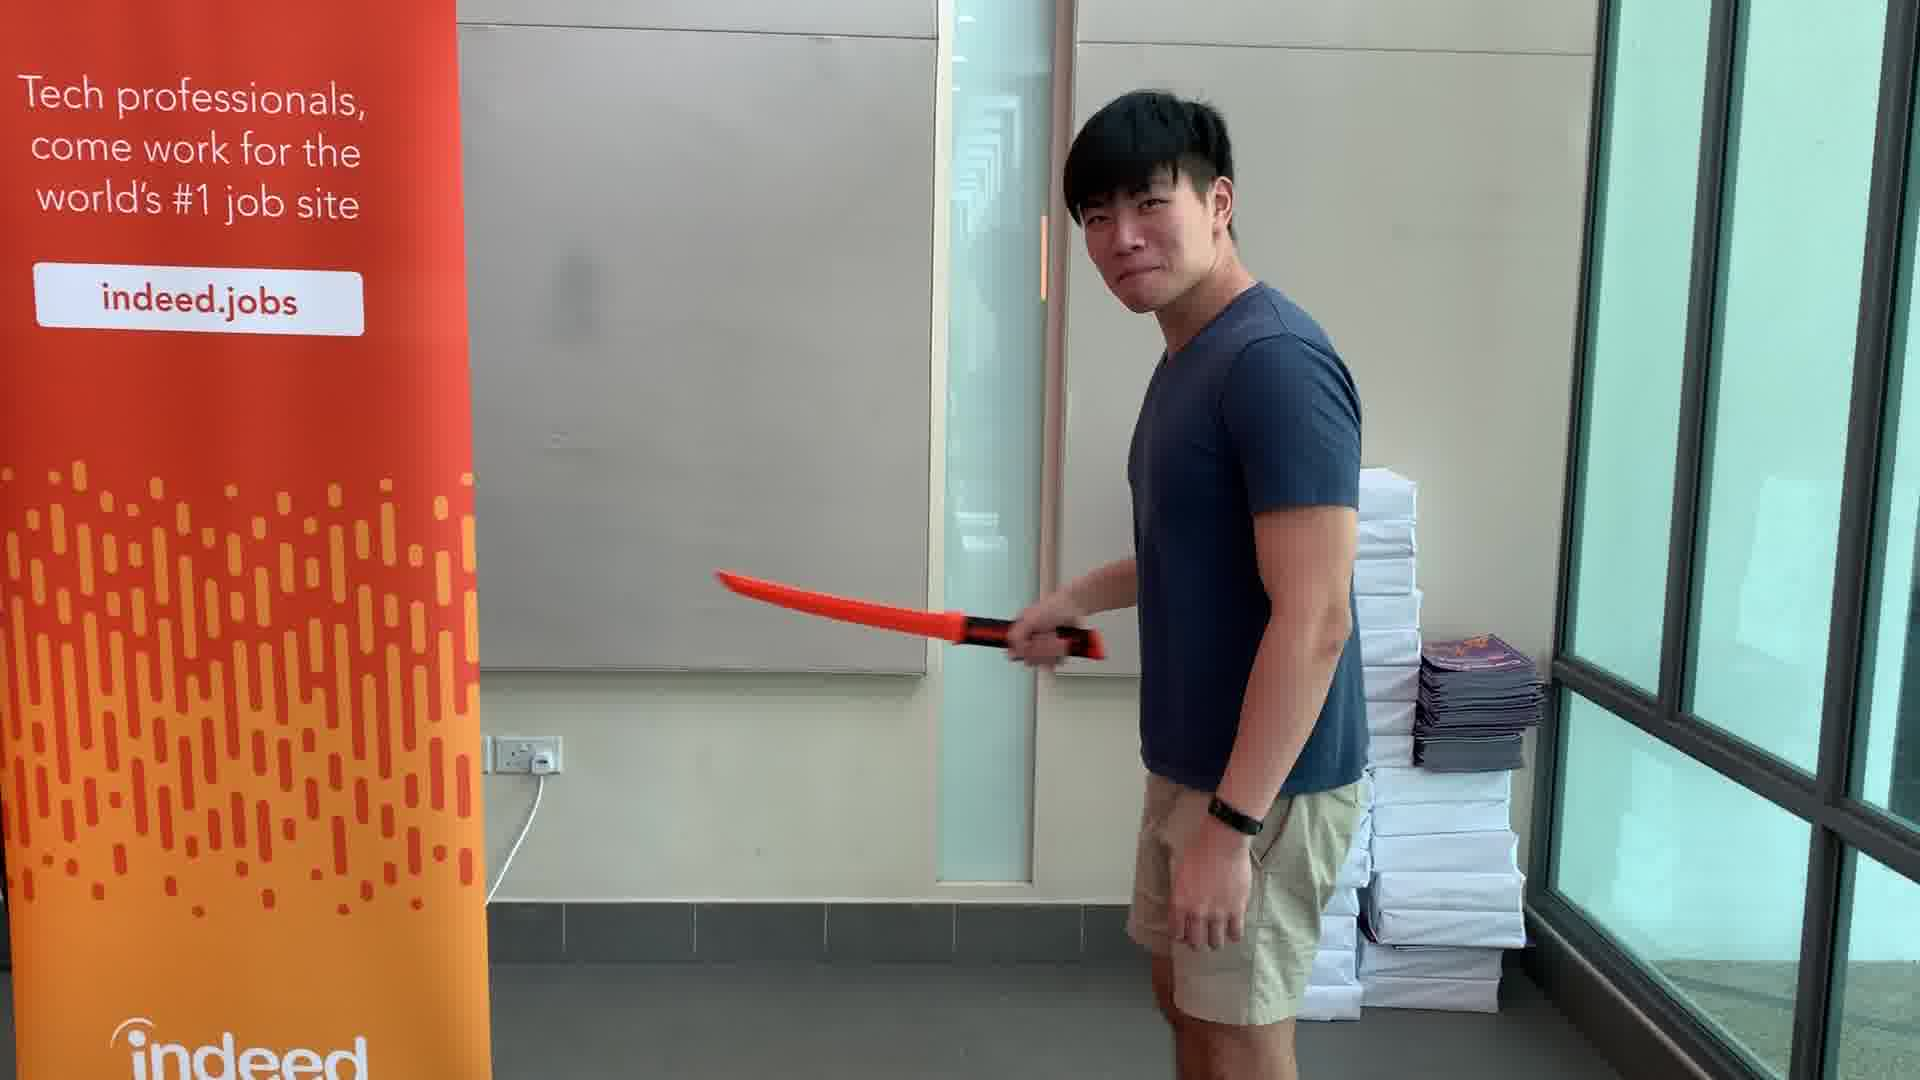knife: (707, 559, 1116, 666)
